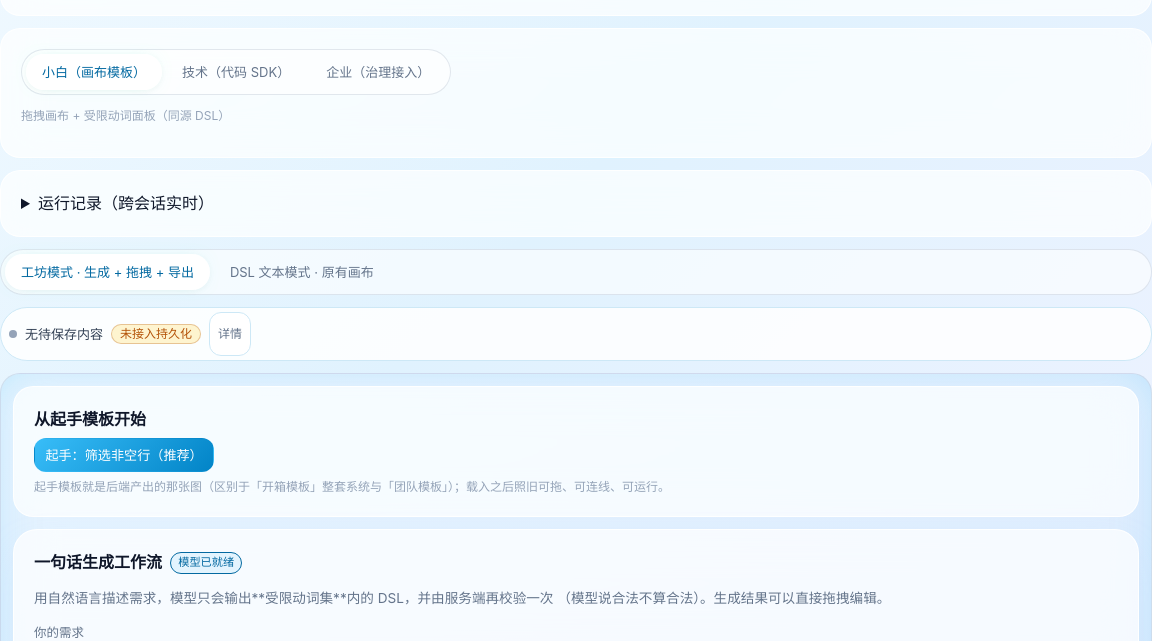
Scenario: DslCanvasPage 工作流工坊页签接线 › 「一句话生成」成功 → 真实 DSL 载入工坊画布，两个视图数据互通
The width and height of the screenshot is (1152, 641).
Expected: the text "模型已就绪" is shown, x1=170 y1=552 x2=242 y2=574
Click the tab with test id "mode-tab-technical".
click(236, 72)  # box x1=166 y1=54 x2=306 y2=90
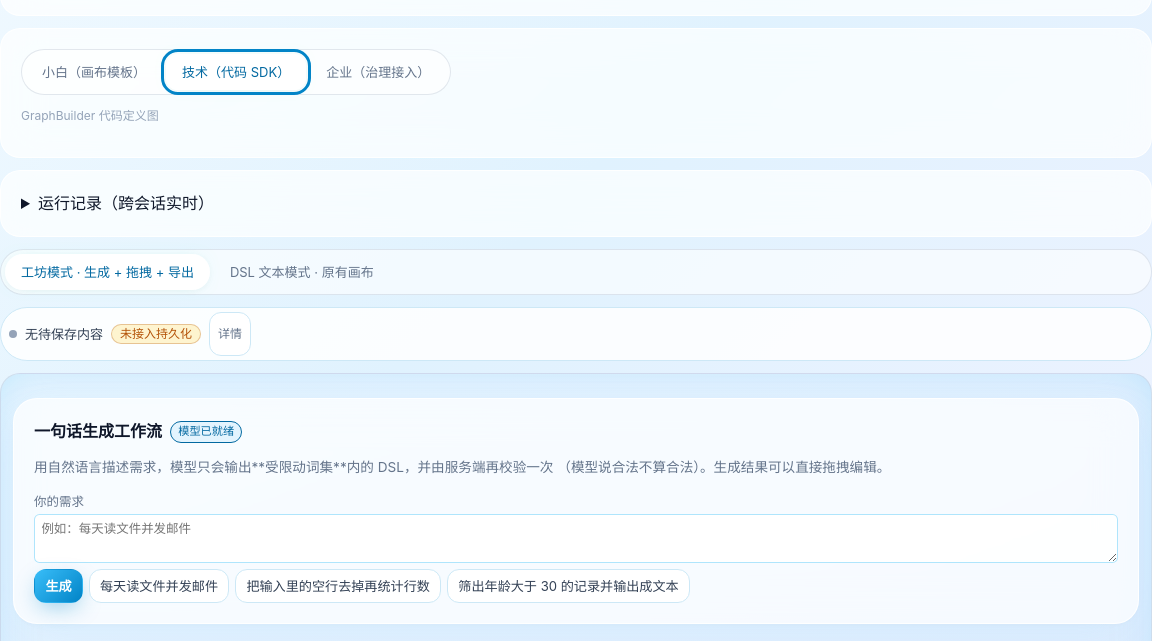
Type "每天读文件并发邮件" into the text box with test id "flow-generate-prompt".
click(576, 539); type("每天读文件并发邮件")  # box x1=34 y1=515 x2=1118 y2=563
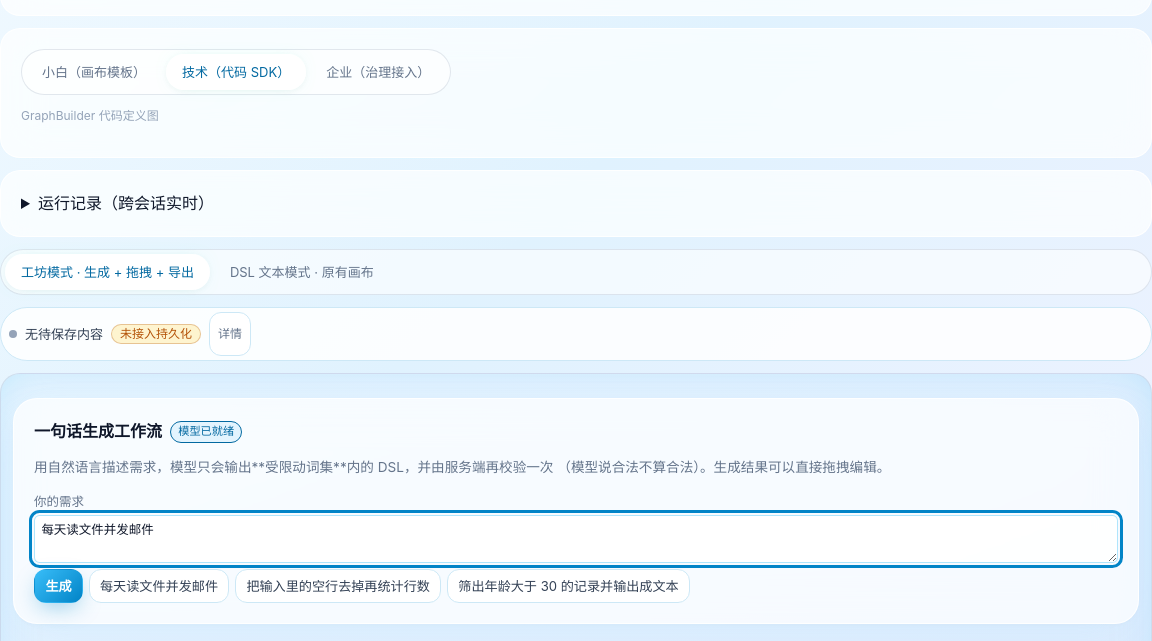
Click the button with test id "flow-generate-run".
click(58, 587)  # box x1=34 y1=570 x2=83 y2=604
(page scrolled)
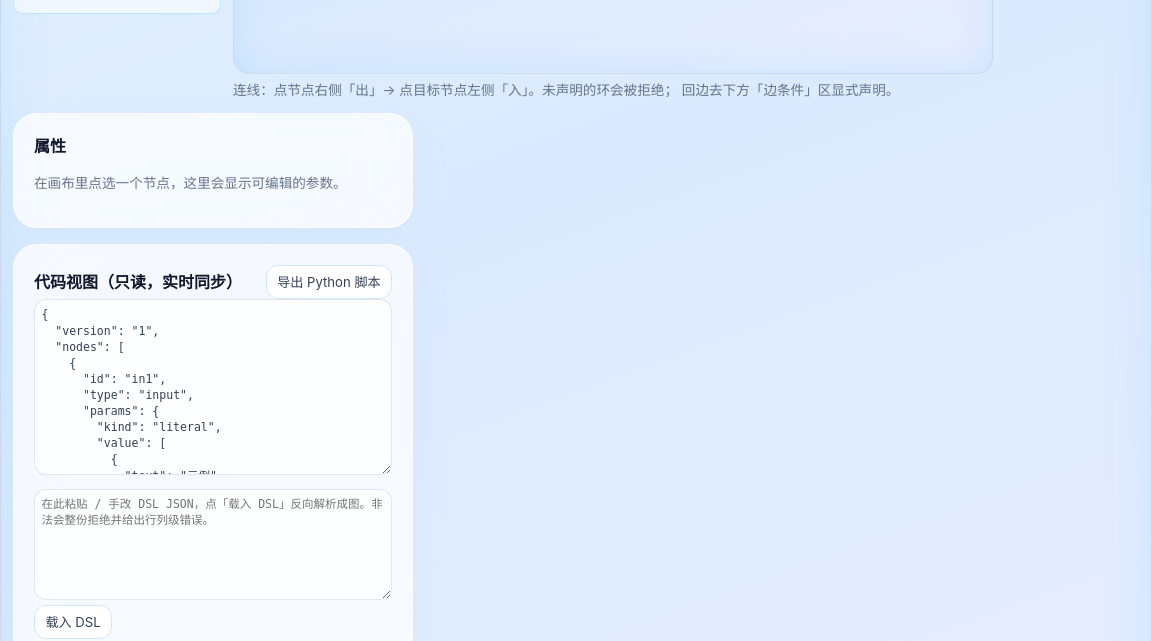
Expected: the button with test id "flow-export" is enabled, x1=266 y1=265 x2=392 y2=299
